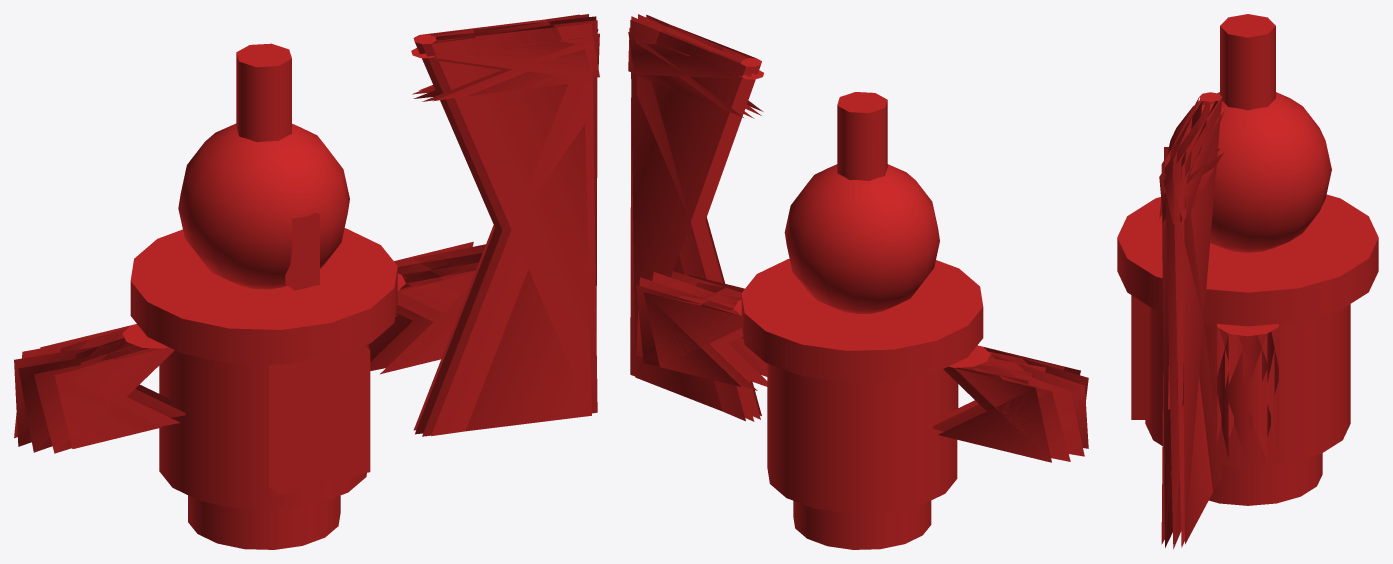
File: english_black_knight.obj
The picture shows the model from 3 angles, left to right: view 1: azimuth 30°, elevation 25°; view 2: azimuth 150°, elevation 25°; view 3: azimuth 270°, elevation 25°; orthographic projection. The views are drawn at different scales.
Visible parts, largest first — view 1: english_black_knight; view 2: english_black_knight; view 3: english_black_knight.
Boxes of the visible parts, x1=… form: english_black_knight: x1=14, y1=14, x2=599, y2=549; english_black_knight: x1=628, y1=14, x2=1088, y2=549; english_black_knight: x1=1117, y1=14, x2=1378, y2=549.
Bounding box in the file's own units: 1.3 × 1.06 × 0.56.
Materials: 1 (1 with a texture image).
